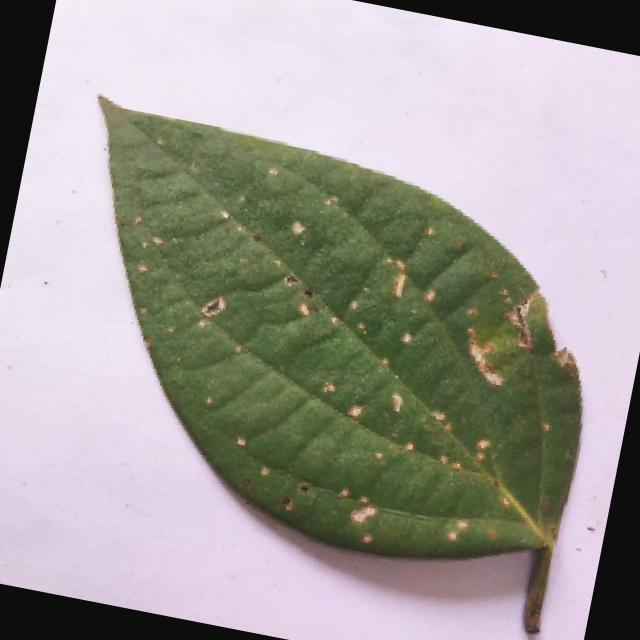pollu-disease: (0, 90, 634, 640)
